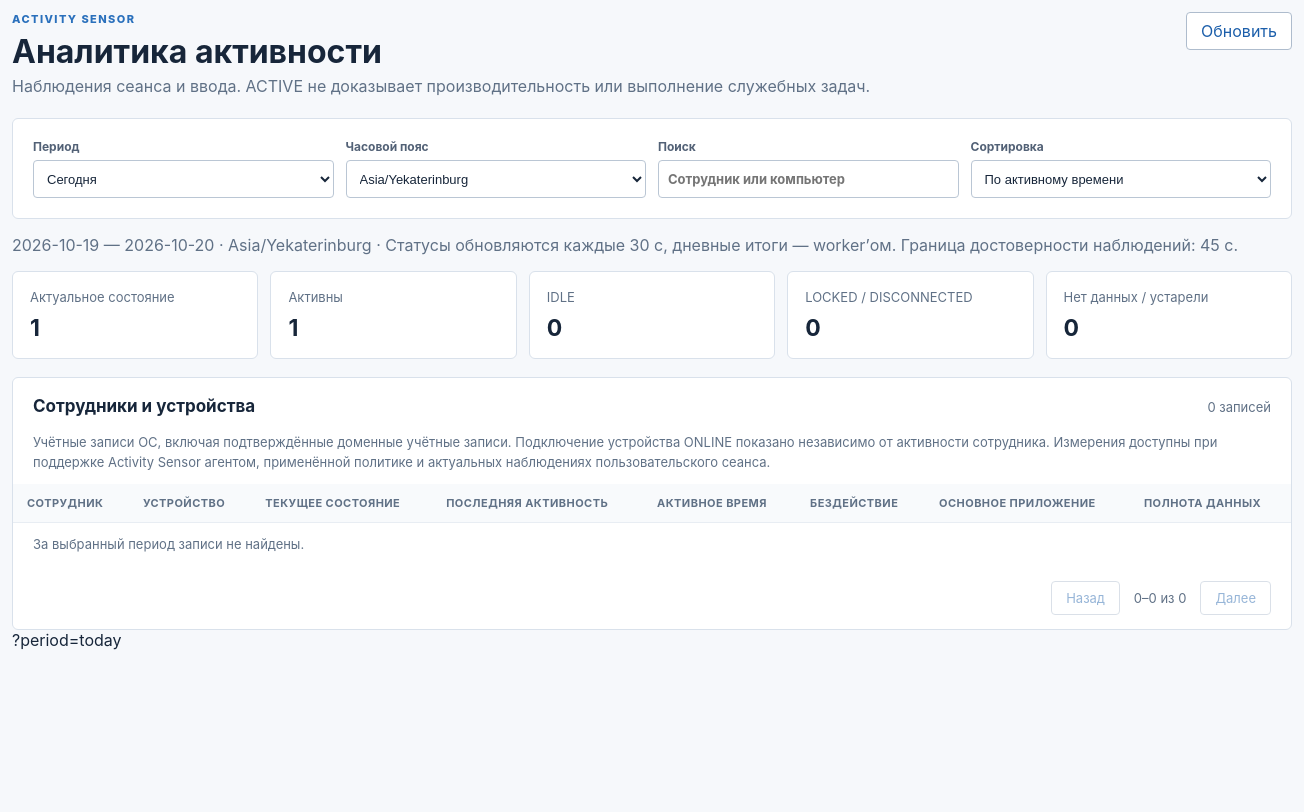
it: shows request errors with a working retry and empty results
The width and height of the screenshot is (1304, 812).
Expected: the text "За выбранный период записи не найдены." is shown, [33,536,304,552]
Click the button "Обновить" at (1239, 31), box [1186,12,1292,50]
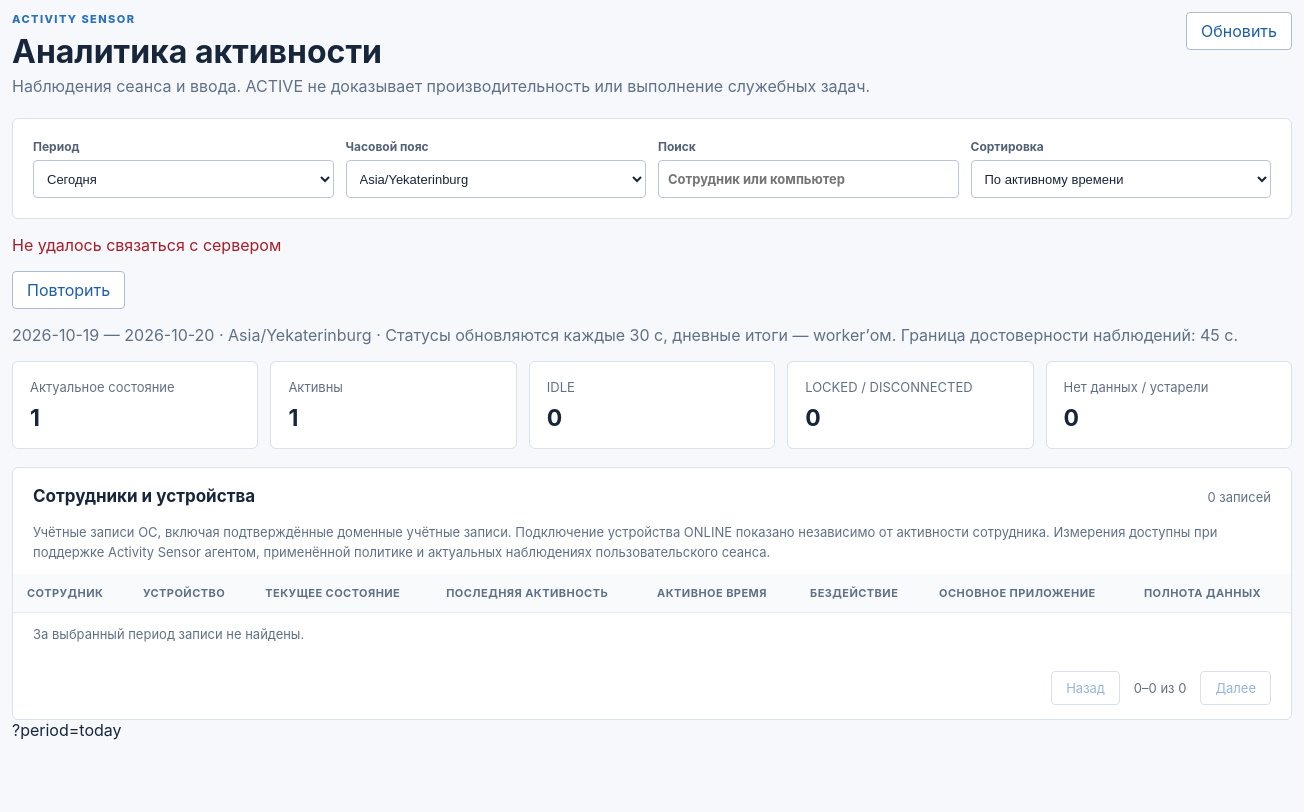
Expected: the message "Не удалось связаться с сервером" is shown, [12,235,281,255]
Click the button "Повторить" at (69, 290), box [12,271,125,309]
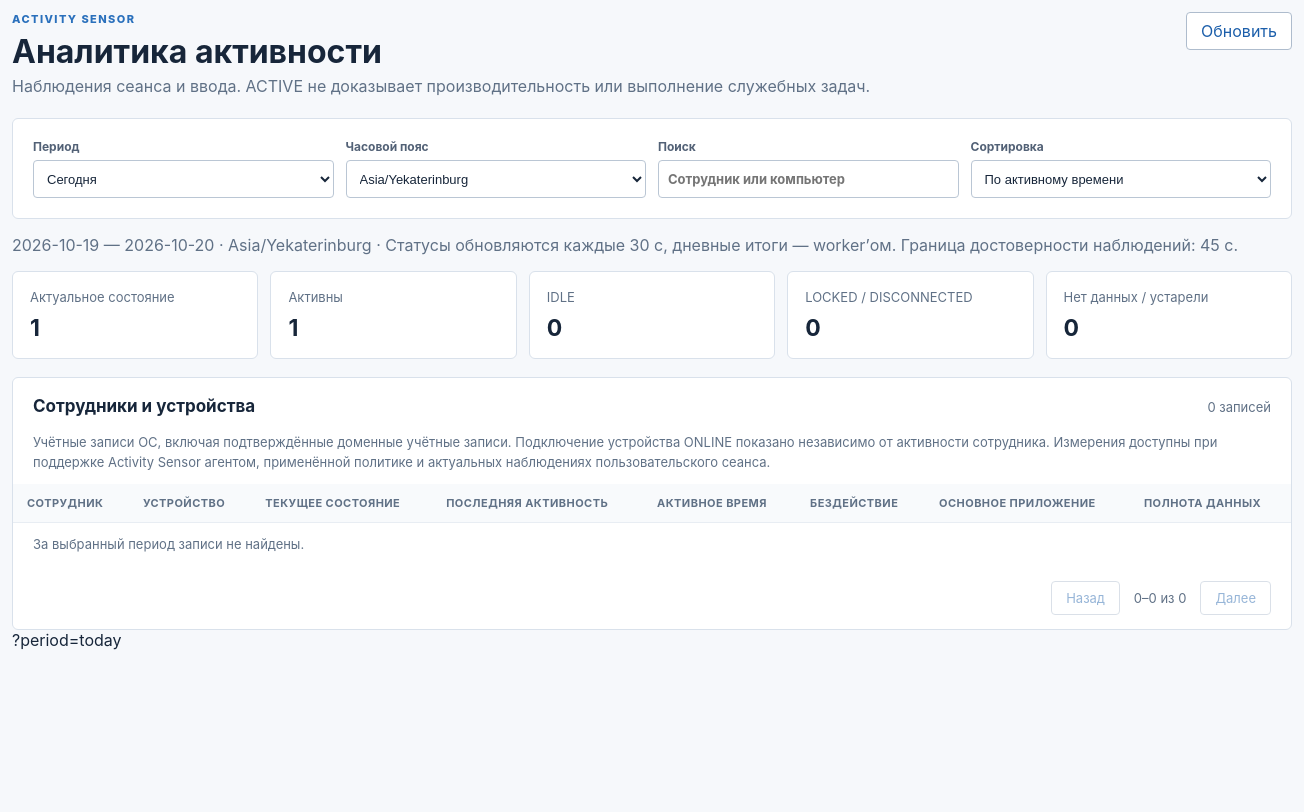
Expected: the message "Не удалось связаться с сервером" is gone
